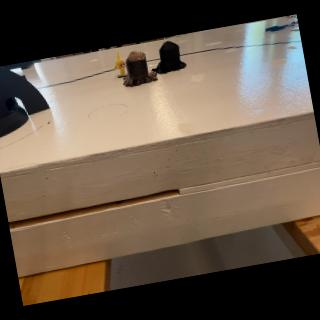teletubby: (114, 52, 128, 77)
